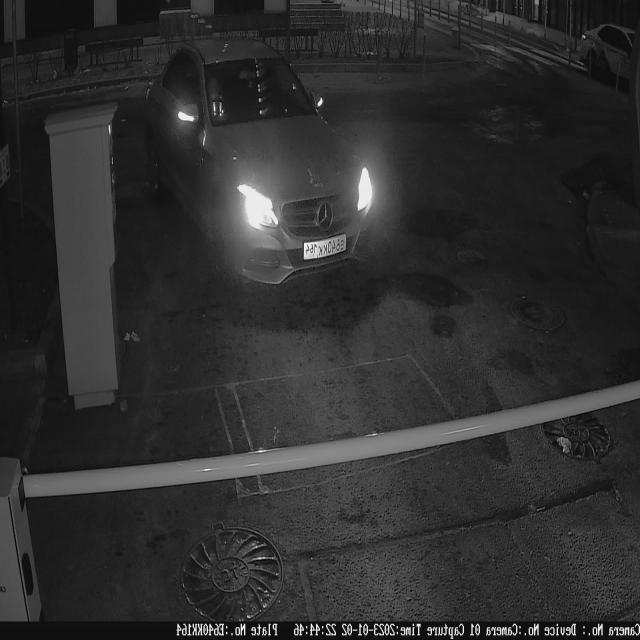car-plate-numbers: (302, 231, 349, 266)
